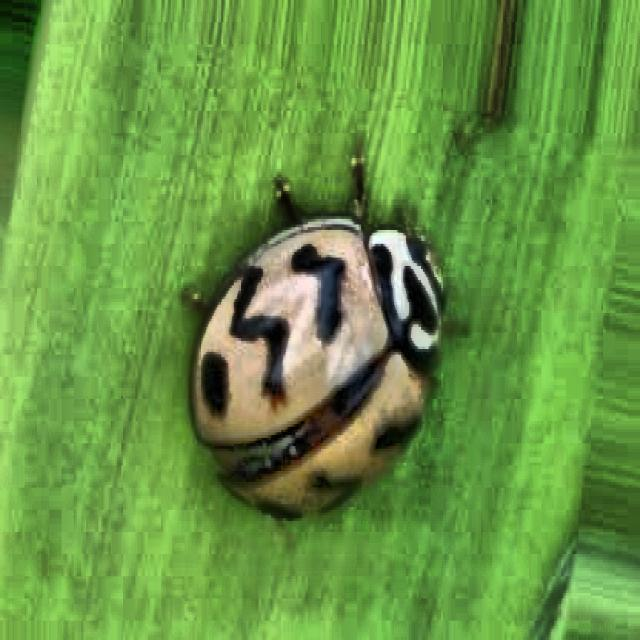Asian-Lady-beetle: (162, 158, 470, 548)
